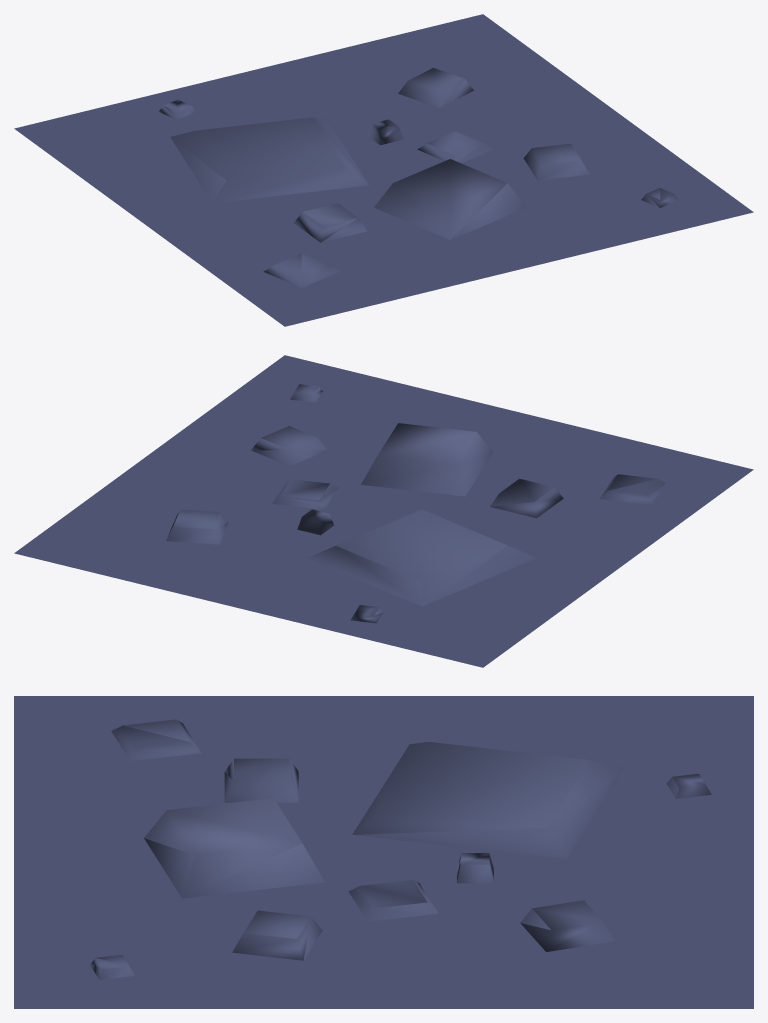
The model's file is template-floor-detail_lev2.glb.
3 renders of one model, top to bottom at view 1: azimuth 30°, elevation 25°; view 2: azimuth 150°, elevation 25°; view 3: azimuth 270°, elevation 25°, orthographic. The views are drawn at different scales.
Parts seen in each view (by area): view 1: template-floor-detail_lev2; view 2: template-floor-detail_lev2; view 3: template-floor-detail_lev2.
Boxes of the visible parts, left/top/right/bottom form: template-floor-detail_lev2: left=14, top=14, right=753, bottom=326; template-floor-detail_lev2: left=14, top=355, right=753, bottom=667; template-floor-detail_lev2: left=14, top=696, right=753, bottom=1008.
Size of the model in its own units: 4 by 0.2 by 4.
Materials: 1 (1 with a texture image).
